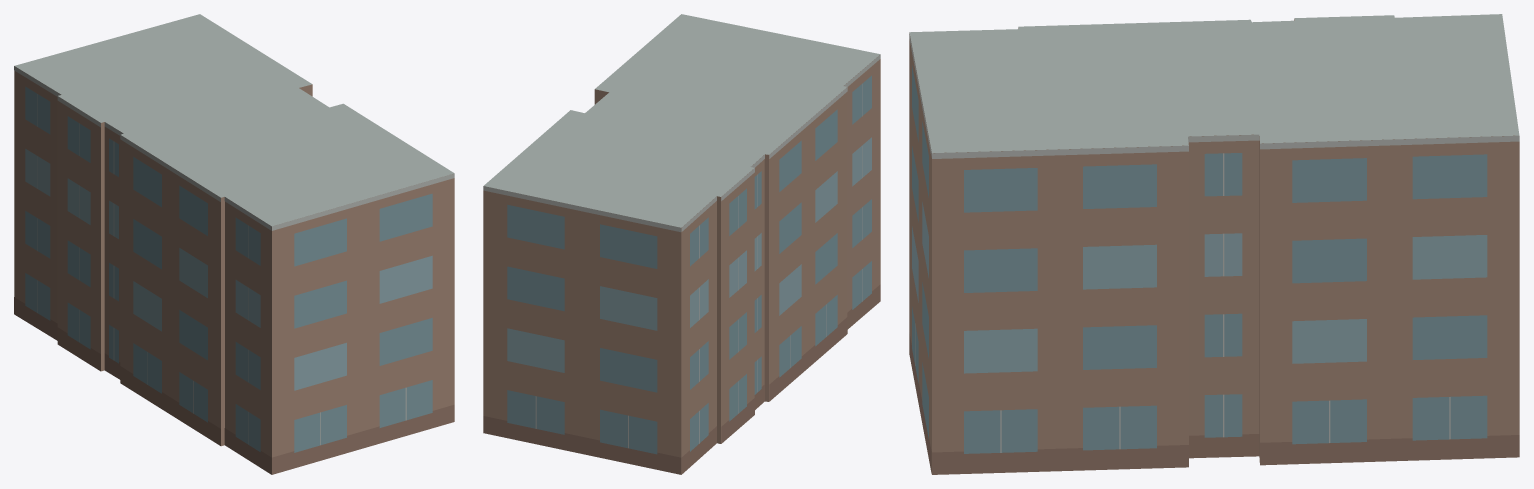
Rendered from survey-upis-32657892.glb.
3 views of the same model, side by side, from view 1: azimuth 30°, elevation 25°; view 2: azimuth 150°, elevation 25°; view 3: azimuth 270°, elevation 25° (orthographic). The views are drawn at different scales.
Parts seen in each view (by area): view 1: survey-upis-32657892.tmp; view 2: survey-upis-32657892.tmp; view 3: survey-upis-32657892.tmp.
Boxes of the visible parts, box(x1,y1,x2,y2) form: survey-upis-32657892.tmp: box(14, 14, 454, 474); survey-upis-32657892.tmp: box(483, 14, 880, 474); survey-upis-32657892.tmp: box(909, 14, 1519, 474).
Bounding box in the file's own units: 12.25 × 13.2 × 22.7.
